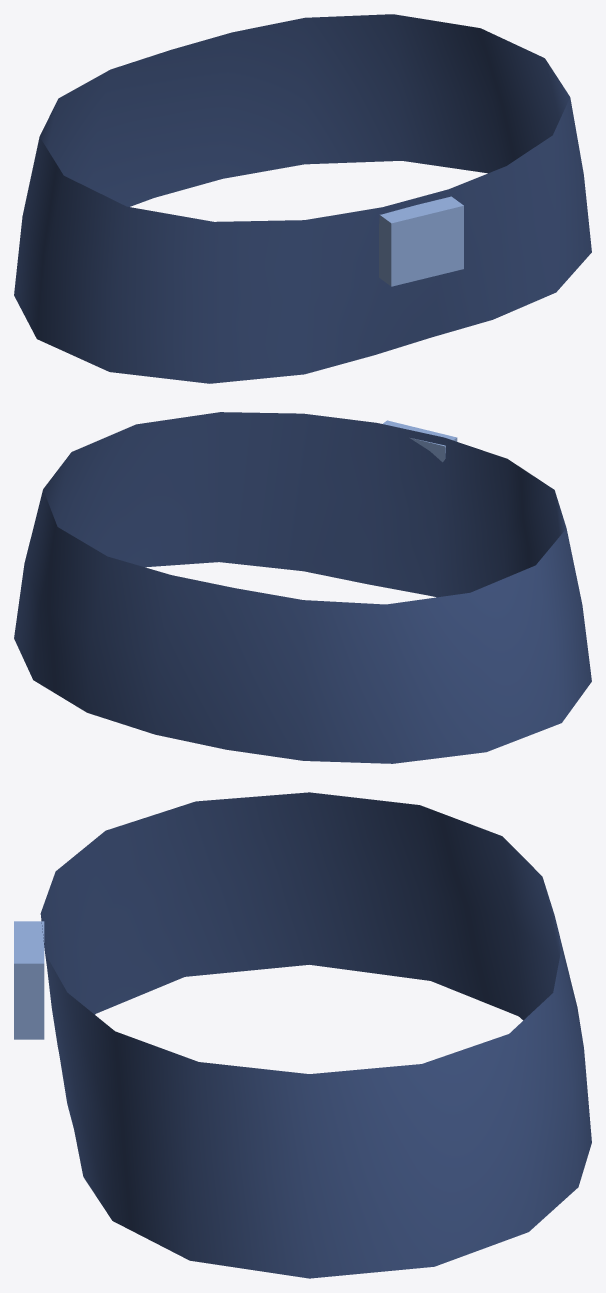
File: spectre_armor_belt.glb
The picture shows the model from 3 angles, top to bottom: view 1: azimuth 30°, elevation 25°; view 2: azimuth 150°, elevation 25°; view 3: azimuth 270°, elevation 25°; orthographic projection. The views are drawn at different scales.
Visible parts, largest first — view 1: spectre_armor_belt; view 2: spectre_armor_belt; view 3: spectre_armor_belt.
Boxes of the visible parts, left/top/right/bottom form: spectre_armor_belt: left=14, top=14, right=591, bottom=383; spectre_armor_belt: left=14, top=412, right=591, bottom=763; spectre_armor_belt: left=14, top=792, right=591, bottom=1278.
Size of the model in its own units: 0.4427 by 0.1238 by 0.3446.
